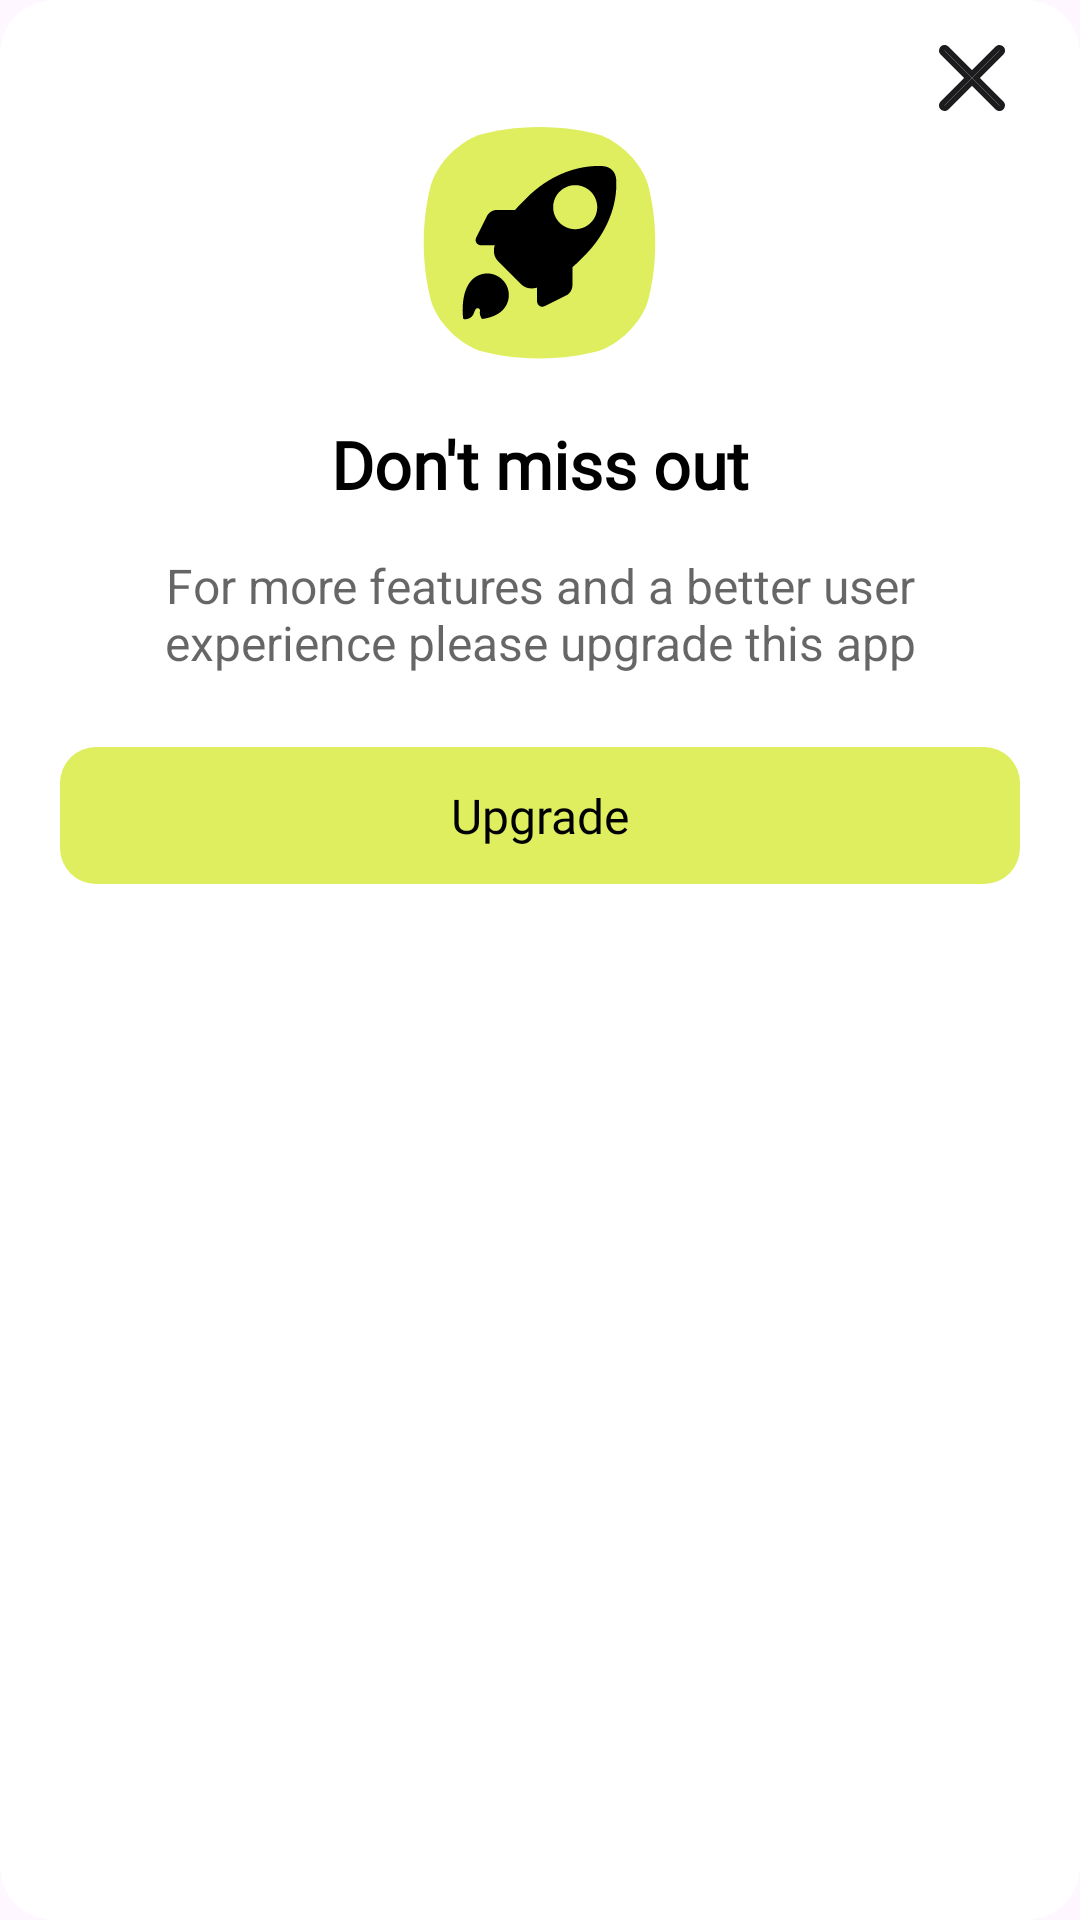

Point at icon controls on the screen. Image size 1080x1920, points as [x,y].
close ads: [972,78]
